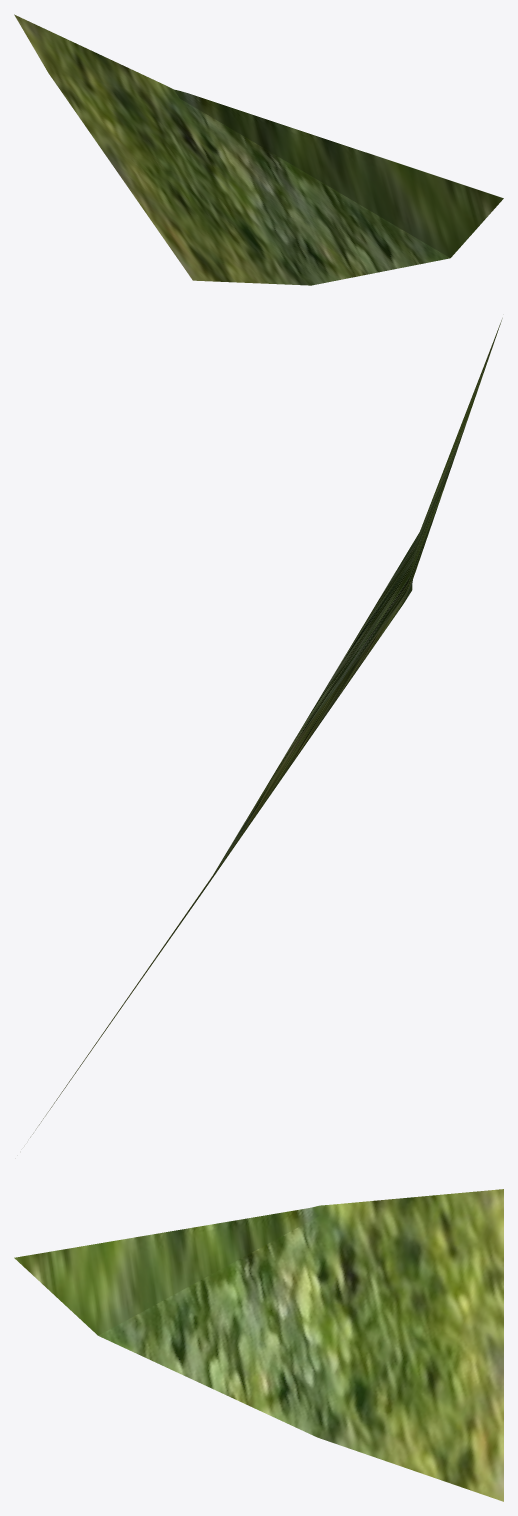
3 renders of one model, top to bottom at view 1: azimuth 30°, elevation 25°; view 2: azimuth 150°, elevation 25°; view 3: azimuth 270°, elevation 25°, orthographic. The views are drawn at different scales.
Bounding box in the file's own units: 0.8658 × 1.43 × 2.61.
Materials: 1 (1 with a texture image).
